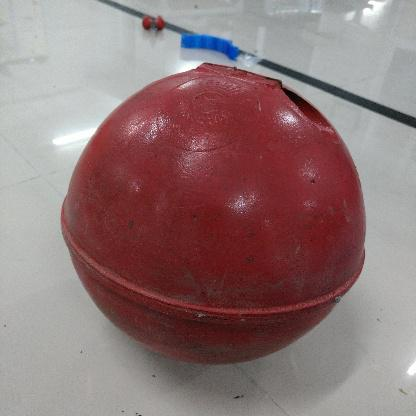red_buoy: (59, 56, 367, 364)
